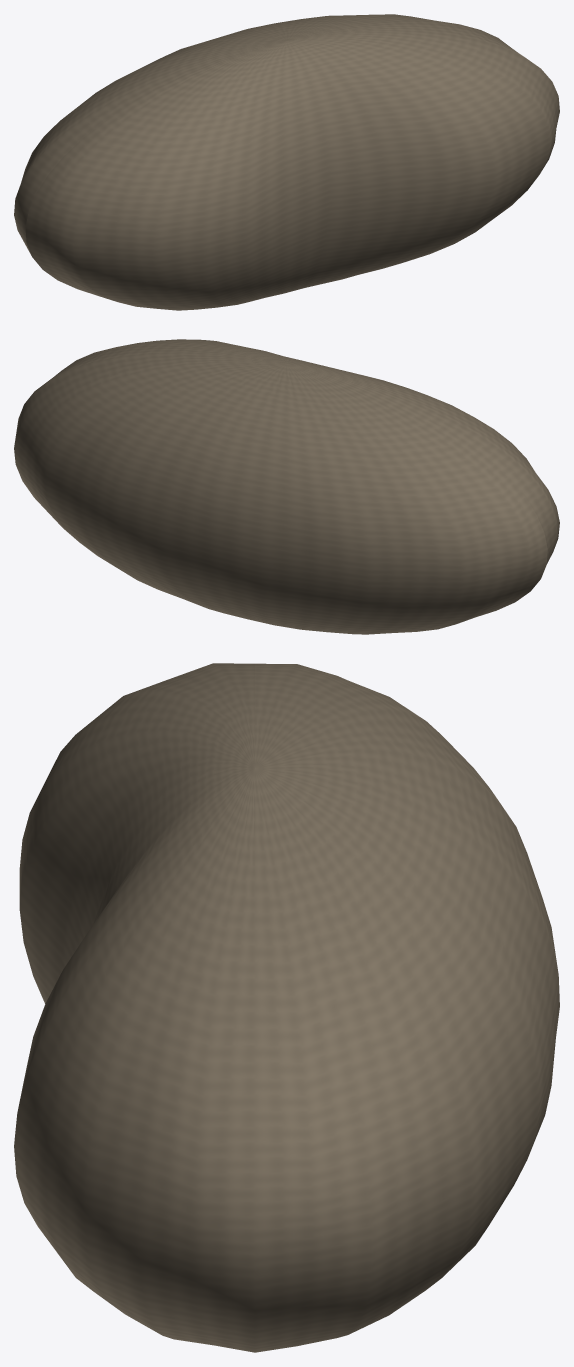
File: prop-coal_sack.gltf
The picture shows the model from 3 angles, top to bottom: view 1: azimuth 30°, elevation 25°; view 2: azimuth 150°, elevation 25°; view 3: azimuth 270°, elevation 25°; orthographic projection. The views are drawn at different scales.
Visible parts, largest first — view 1: coal_sack; view 2: coal_sack; view 3: coal_sack.
Boxes of the visible parts, x1,y1,x2,y2 form: coal_sack: [14, 14, 559, 310]; coal_sack: [14, 339, 559, 634]; coal_sack: [14, 663, 559, 1352].
Size of the model in its own units: 0.56 by 0.25 by 0.2596.
1 material, 1 textured.
